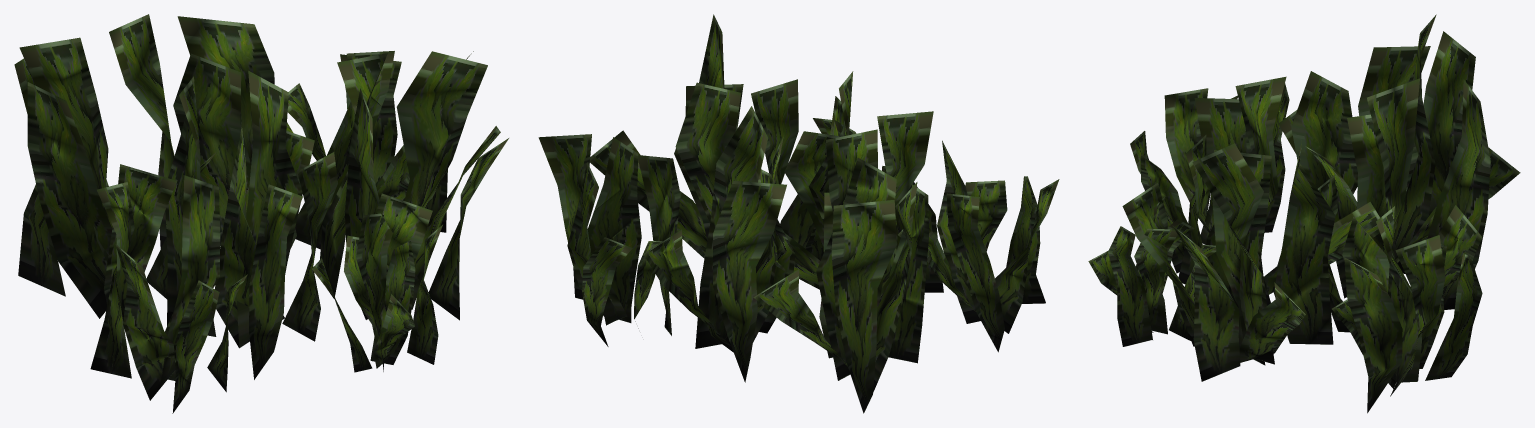
File: SeaWeed07-transformed.glb
3 renders of one model, left to right at view 1: azimuth 30°, elevation 25°; view 2: azimuth 150°, elevation 25°; view 3: azimuth 270°, elevation 25°, orthographic. The views are drawn at different scales.
Visible parts, largest first — view 1: SeaWeed07; view 2: SeaWeed07; view 3: SeaWeed07.
Part boxes in pixels (x1,y1,x2,y2): SeaWeed07: (14, 14, 508, 413); SeaWeed07: (538, 14, 1059, 413); SeaWeed07: (1088, 14, 1520, 413).
Bounding box in the file's own units: 0.2598 × 0.1478 × 0.237.
1 material, 1 textured.
